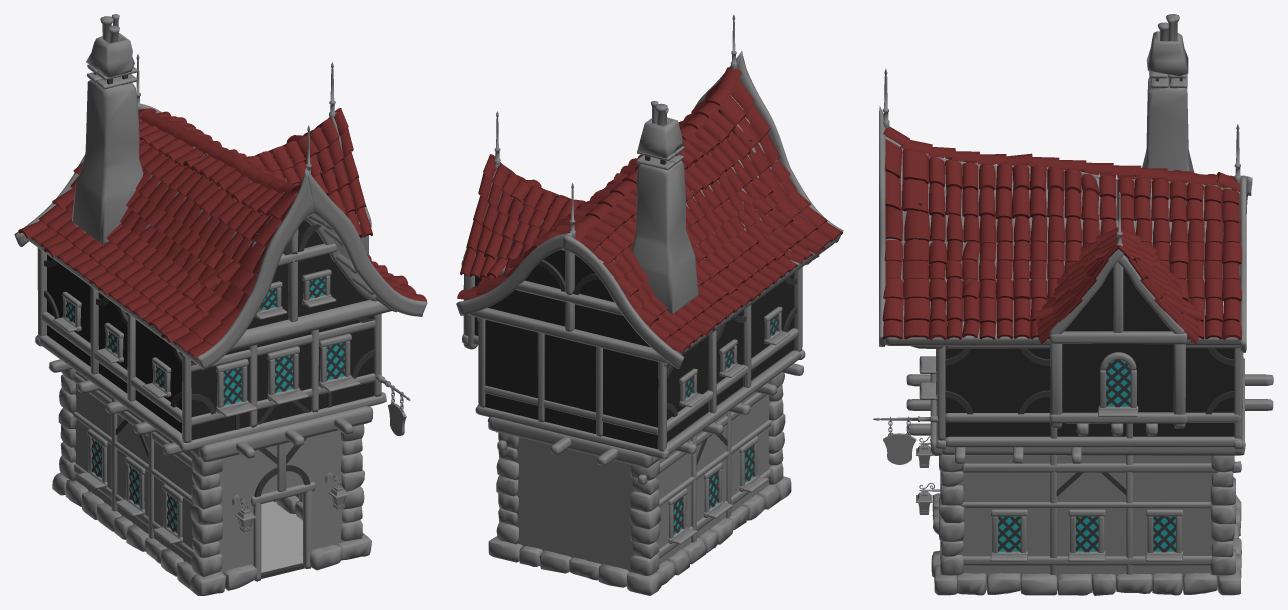
Rendered from SM_tavern.fbx.
The picture shows the model from 3 angles, left to right: view 1: azimuth 30°, elevation 25°; view 2: azimuth 150°, elevation 25°; view 3: azimuth 270°, elevation 25°; orthographic projection. The views are drawn at different scales.
Parts seen in each view (by area): view 1: Object342591; view 2: Object342591; view 3: Object342591.
Boxes of the visible parts, bbox=[...] form: Object342591: bbox=[14, 14, 427, 595]; Object342591: bbox=[456, 14, 843, 595]; Object342591: bbox=[873, 14, 1273, 595].
Size of the model in its own units: 284 by 492 by 350.
